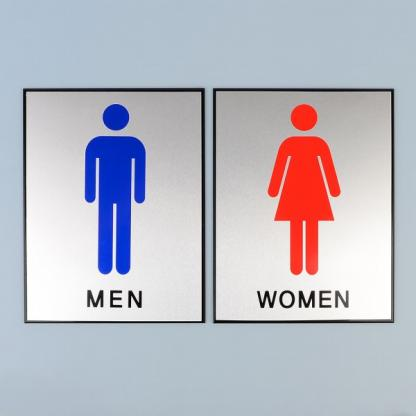toilet: (73, 92, 348, 284)
